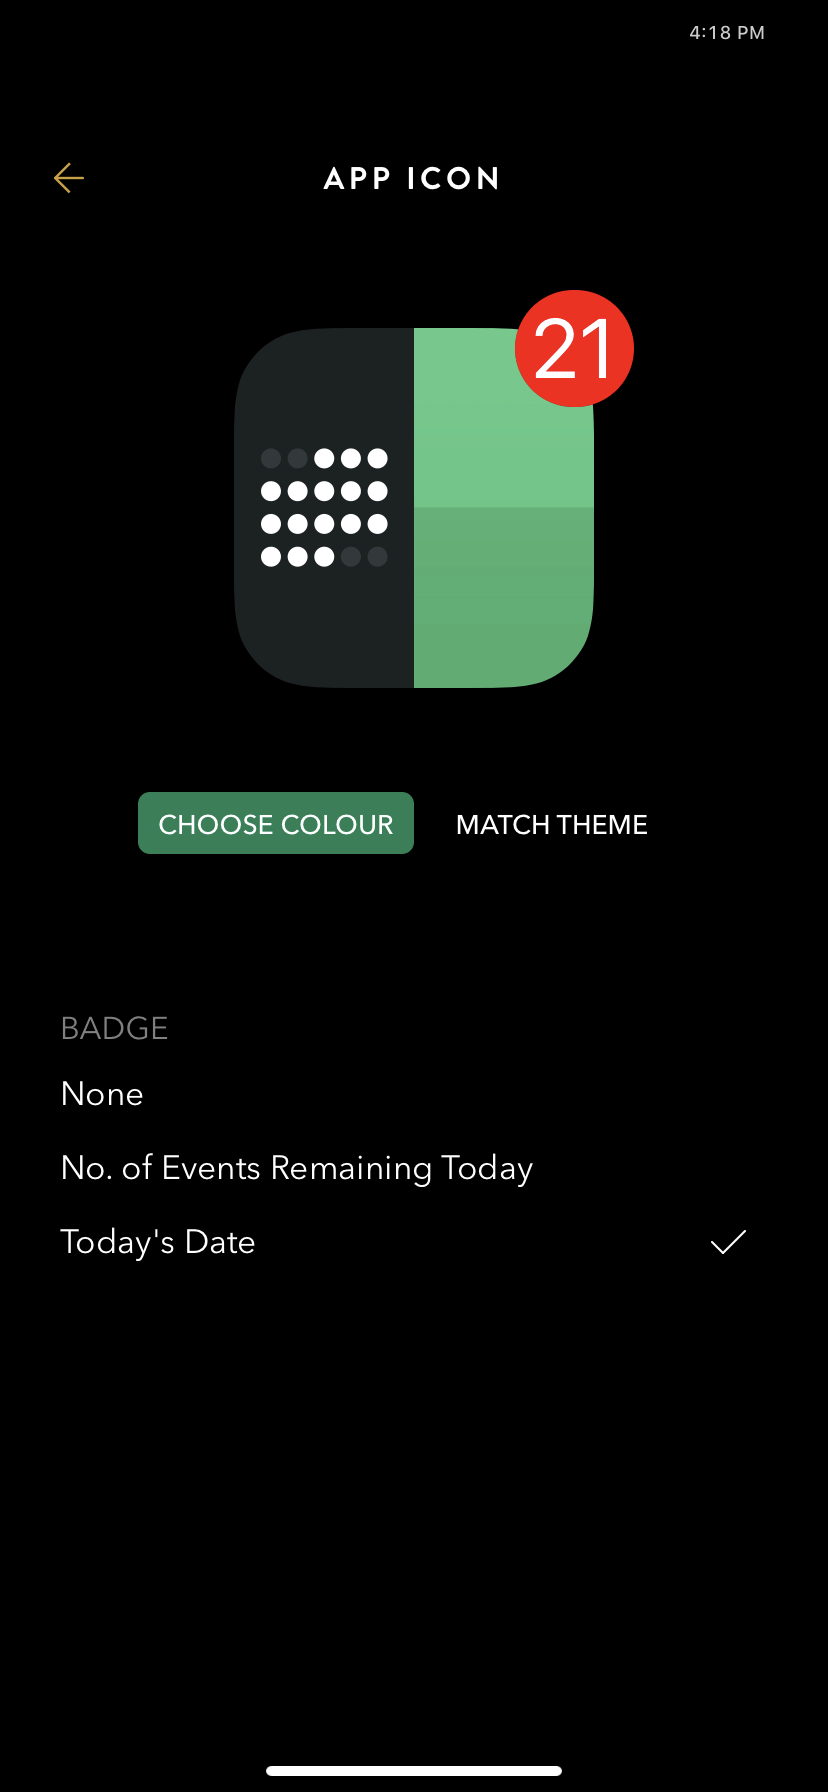Buttons: (19, 134, 119, 225)
Radio buttons: (40, 1197, 793, 1294)
